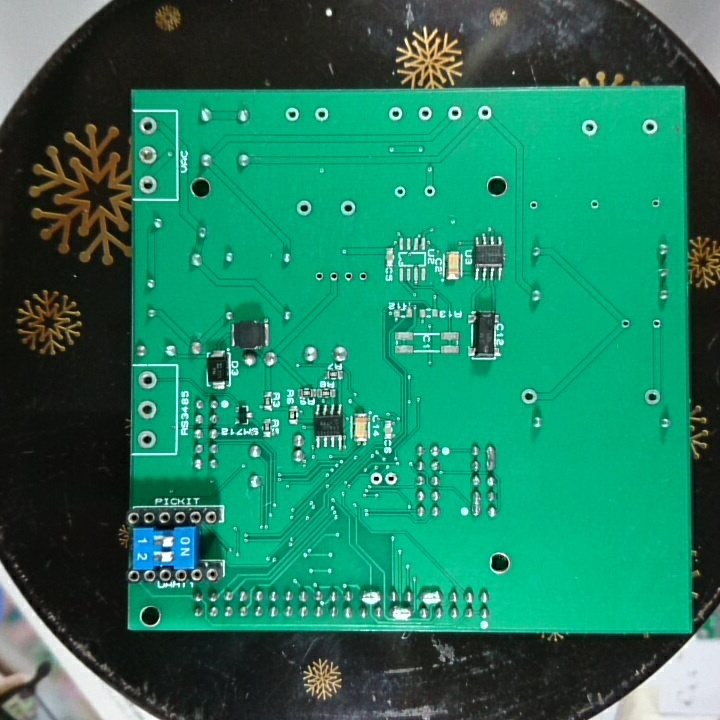F: (137, 367, 160, 392), (134, 429, 159, 451), (137, 113, 159, 138), (640, 115, 662, 139), (137, 143, 159, 166), (385, 104, 408, 126), (579, 116, 600, 140), (137, 173, 159, 195), (518, 386, 539, 409), (473, 101, 494, 123), (137, 399, 157, 422), (642, 386, 662, 409), (444, 103, 465, 123), (294, 198, 314, 218), (416, 103, 434, 125), (282, 104, 301, 124), (313, 104, 330, 126), (422, 182, 439, 204), (390, 182, 408, 202), (339, 198, 356, 219), (382, 470, 398, 489), (311, 267, 325, 288), (648, 194, 665, 211), (649, 315, 666, 332), (368, 470, 384, 488), (618, 315, 634, 332), (327, 269, 340, 288), (587, 196, 601, 212), (342, 269, 355, 286), (526, 198, 540, 213), (355, 269, 368, 285)
P: (467, 489, 483, 519), (417, 587, 442, 605), (484, 443, 499, 473), (359, 587, 382, 606), (390, 604, 412, 623)
